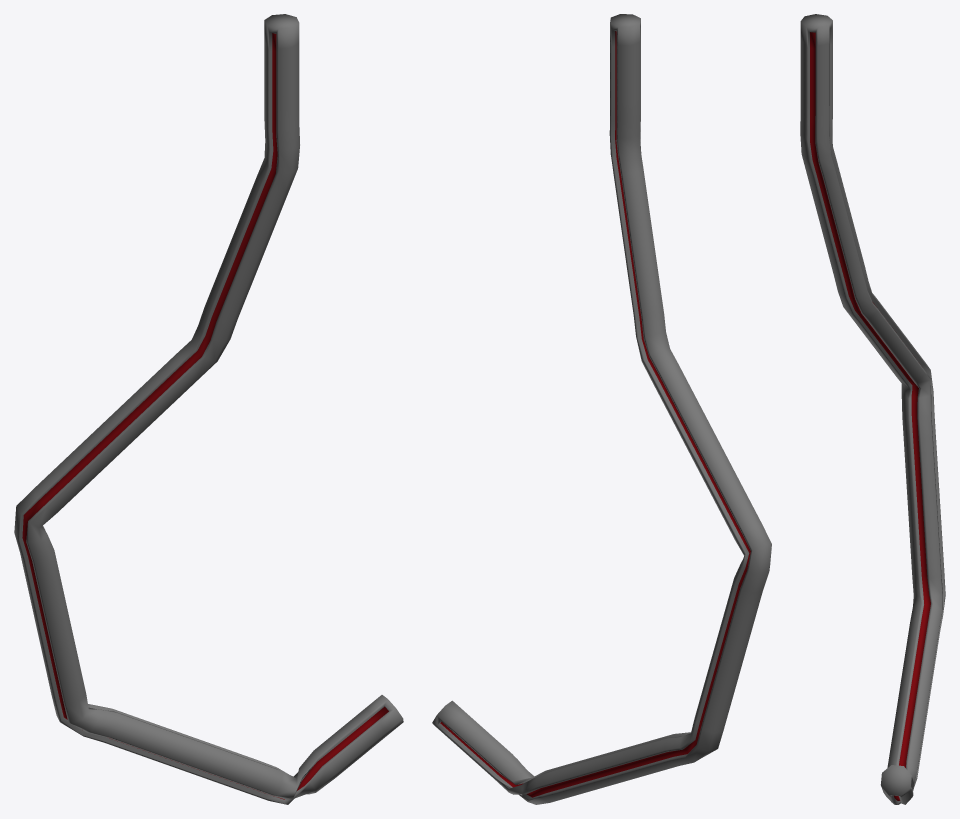
The model's file is HeartTube2.glb.
3 renders of one model, left to right at view 1: azimuth 30°, elevation 25°; view 2: azimuth 150°, elevation 25°; view 3: azimuth 270°, elevation 25°, orthographic. The views are drawn at different scales.
Parts seen in each view (by area): view 1: Cylinder.003; view 2: Cylinder.003; view 3: Cylinder.003.
Boxes of the visible parts, x1,y1,x2,y2 form: Cylinder.003: (14,14,403,804); Cylinder.003: (432,14,771,804); Cylinder.003: (800,14,945,804).
Bounding box in the file's own units: 5.06 × 10.76 × 1.88.
